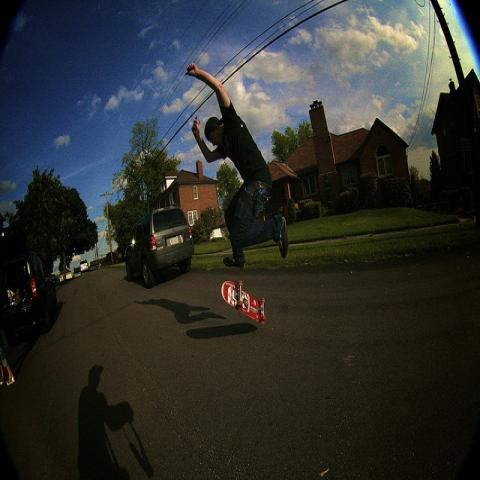car: (126, 205, 195, 287), (11, 277, 59, 330), (80, 258, 88, 272), (73, 267, 82, 278)
